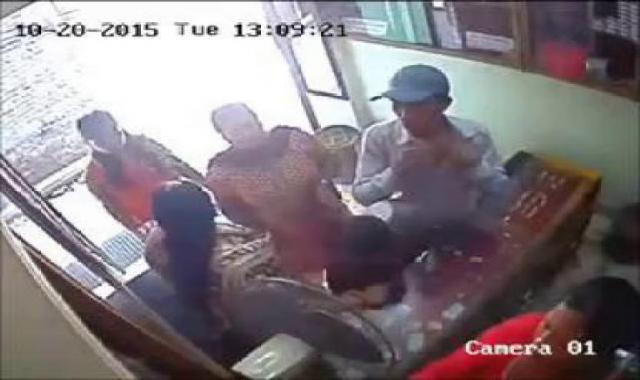no_hairnet: (551, 270, 640, 380), (375, 58, 462, 113), (208, 94, 282, 148), (152, 178, 216, 230), (69, 109, 130, 154)
